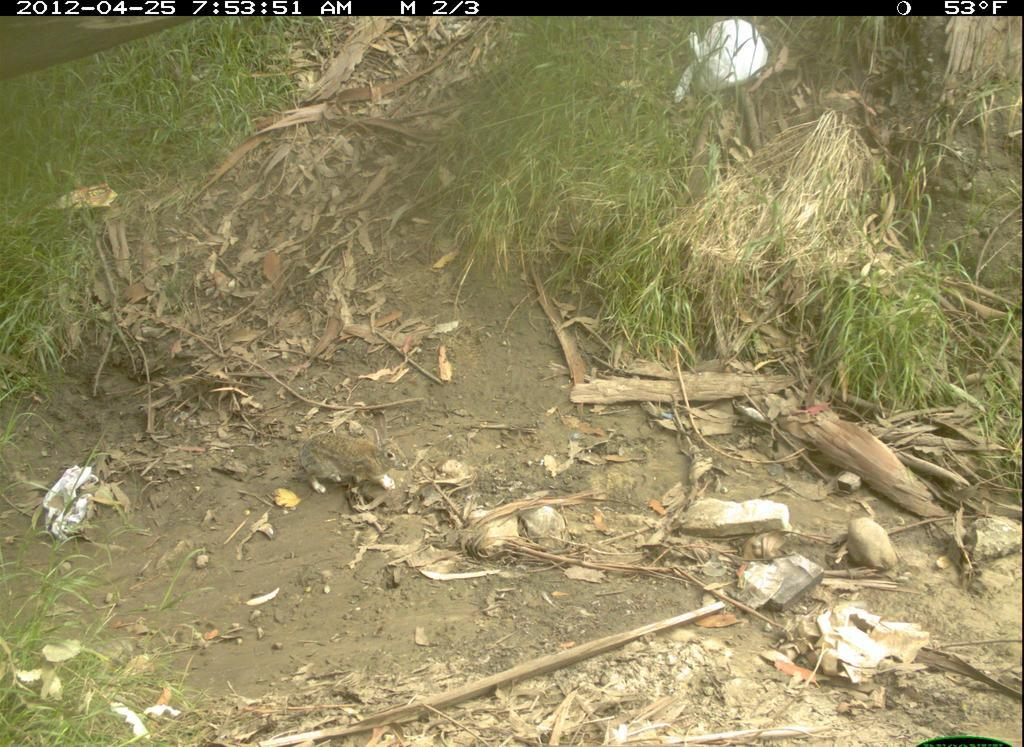rabbit: (264, 399, 437, 527)
